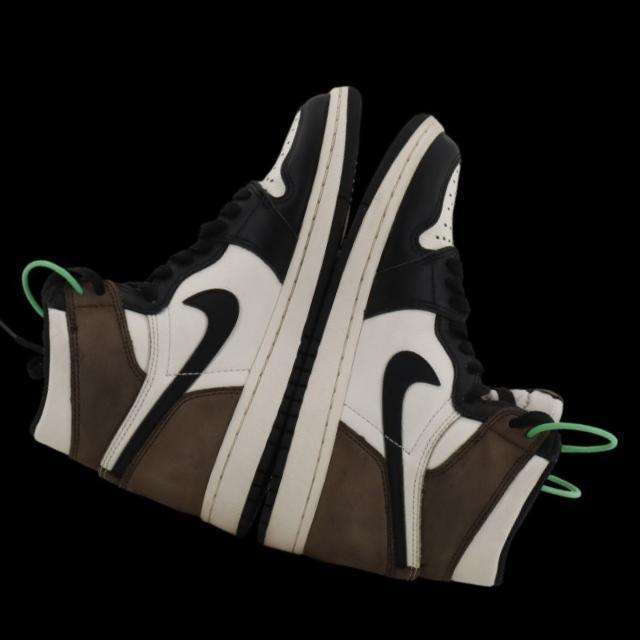nike original jordan 1: (0, 18, 385, 546), (244, 100, 632, 623)
